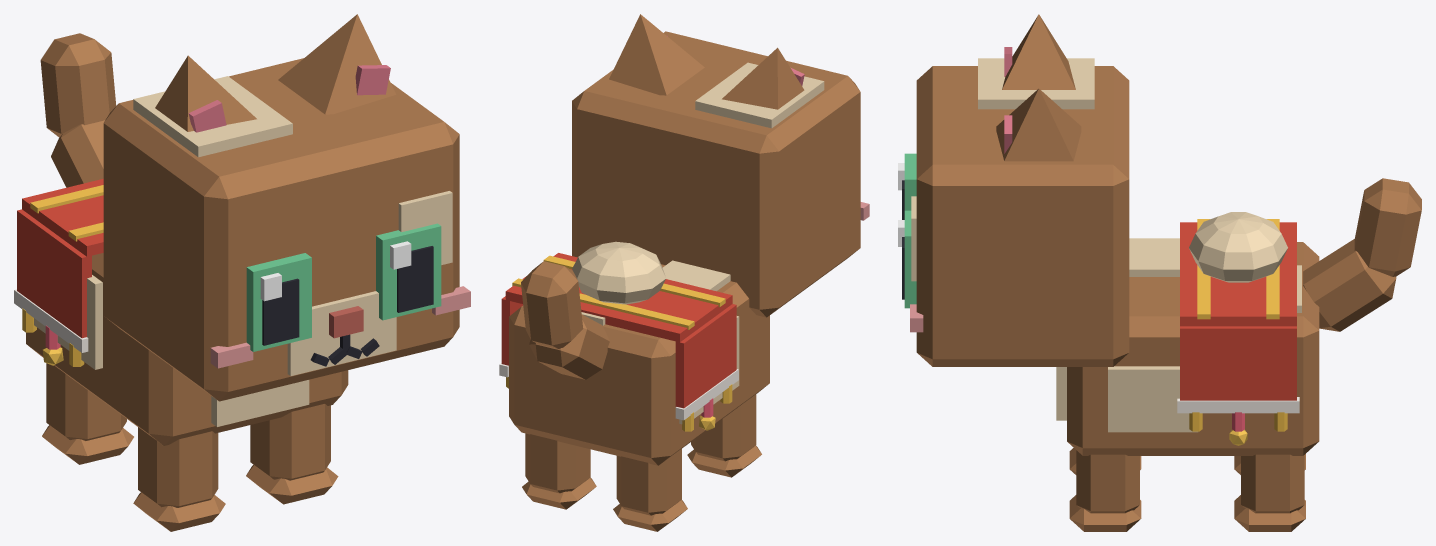
The model's file is CatCafe_Cat_Camel.glb.
The picture shows the model from 3 angles, left to right: view 1: azimuth 30°, elevation 25°; view 2: azimuth 150°, elevation 25°; view 3: azimuth 270°, elevation 25°; orthographic projection. The views are drawn at different scales.
Parts seen in each view (by area): view 1: CatCafe_Cat_Camel_Head, CatCafe_Cat_Camel_Body, CatCafe_Cat_Camel_Prop, CatCafe_Cat_Camel_Tail, CatCafe_Cat_Camel_LegF2, CatCafe_Cat_Camel_LegF1, CatCafe_Cat_Camel_EarL, CatCafe_Cat_Camel_Eye2, CatCafe_Cat_Camel_LegB2, CatCafe_Cat_Camel_Eye1, CatCafe_Cat_Camel_EarR; view 2: CatCafe_Cat_Camel_Head, CatCafe_Cat_Camel_Body, CatCafe_Cat_Camel_Prop, CatCafe_Cat_Camel_Tail, CatCafe_Cat_Camel_LegB2, CatCafe_Cat_Camel_EarL, CatCafe_Cat_Camel_LegB1, CatCafe_Cat_Camel_LegF2, CatCafe_Cat_Camel_EarR; view 3: CatCafe_Cat_Camel_Head, CatCafe_Cat_Camel_Body, CatCafe_Cat_Camel_Prop, CatCafe_Cat_Camel_Tail, CatCafe_Cat_Camel_LegF1, CatCafe_Cat_Camel_LegB1, CatCafe_Cat_Camel_EarL, CatCafe_Cat_Camel_EarR, CatCafe_Cat_Camel_Eye1, CatCafe_Cat_Camel_Eye2.
Part boxes in pixels (box(x1,y1,x2,y2)): CatCafe_Cat_Camel_Head: box(103, 58, 470, 401); CatCafe_Cat_Camel_Body: box(26, 253, 348, 445); CatCafe_Cat_Camel_Prop: box(14, 178, 103, 366); CatCafe_Cat_Camel_Tail: box(40, 33, 116, 187); CatCafe_Cat_Camel_LegF2: box(133, 427, 225, 531); CatCafe_Cat_Camel_LegF1: box(246, 404, 338, 504); CatCafe_Cat_Camel_EarL: box(278, 14, 396, 114); CatCafe_Cat_Camel_Eye2: box(246, 253, 311, 351); CatCafe_Cat_Camel_LegB2: box(42, 363, 133, 464); CatCafe_Cat_Camel_Eye1: box(376, 223, 441, 320); CatCafe_Cat_Camel_EarR: box(155, 55, 256, 132); CatCafe_Cat_Camel_Head: box(572, 31, 869, 317); CatCafe_Cat_Camel_Body: box(509, 260, 769, 465); CatCafe_Cat_Camel_Prop: box(499, 241, 738, 431); CatCafe_Cat_Camel_Tail: box(521, 261, 609, 379); CatCafe_Cat_Camel_LegB2: box(613, 448, 687, 531); CatCafe_Cat_Camel_EarL: box(609, 14, 704, 95); CatCafe_Cat_Camel_LegB1: box(522, 433, 596, 509); CatCafe_Cat_Camel_LegF2: box(687, 394, 761, 477); CatCafe_Cat_Camel_EarR: box(722, 47, 804, 109); CatCafe_Cat_Camel_Head: box(910, 58, 1129, 366); CatCafe_Cat_Camel_Body: box(1056, 238, 1319, 455); CatCafe_Cat_Camel_Prop: box(1177, 212, 1299, 445); CatCafe_Cat_Camel_Tail: box(1303, 178, 1421, 331); CatCafe_Cat_Camel_LegF1: box(1069, 450, 1141, 531); CatCafe_Cat_Camel_LegB1: box(1234, 454, 1305, 531); CatCafe_Cat_Camel_EarL: box(996, 88, 1081, 161); CatCafe_Cat_Camel_EarR: box(1002, 14, 1075, 89); CatCafe_Cat_Camel_Eye1: box(898, 210, 916, 308); CatCafe_Cat_Camel_Eye2: box(898, 153, 916, 219).
Size of the model in its own units: 1 by 1.86 by 1.97.
Materials: 1 (1 with a texture image).
